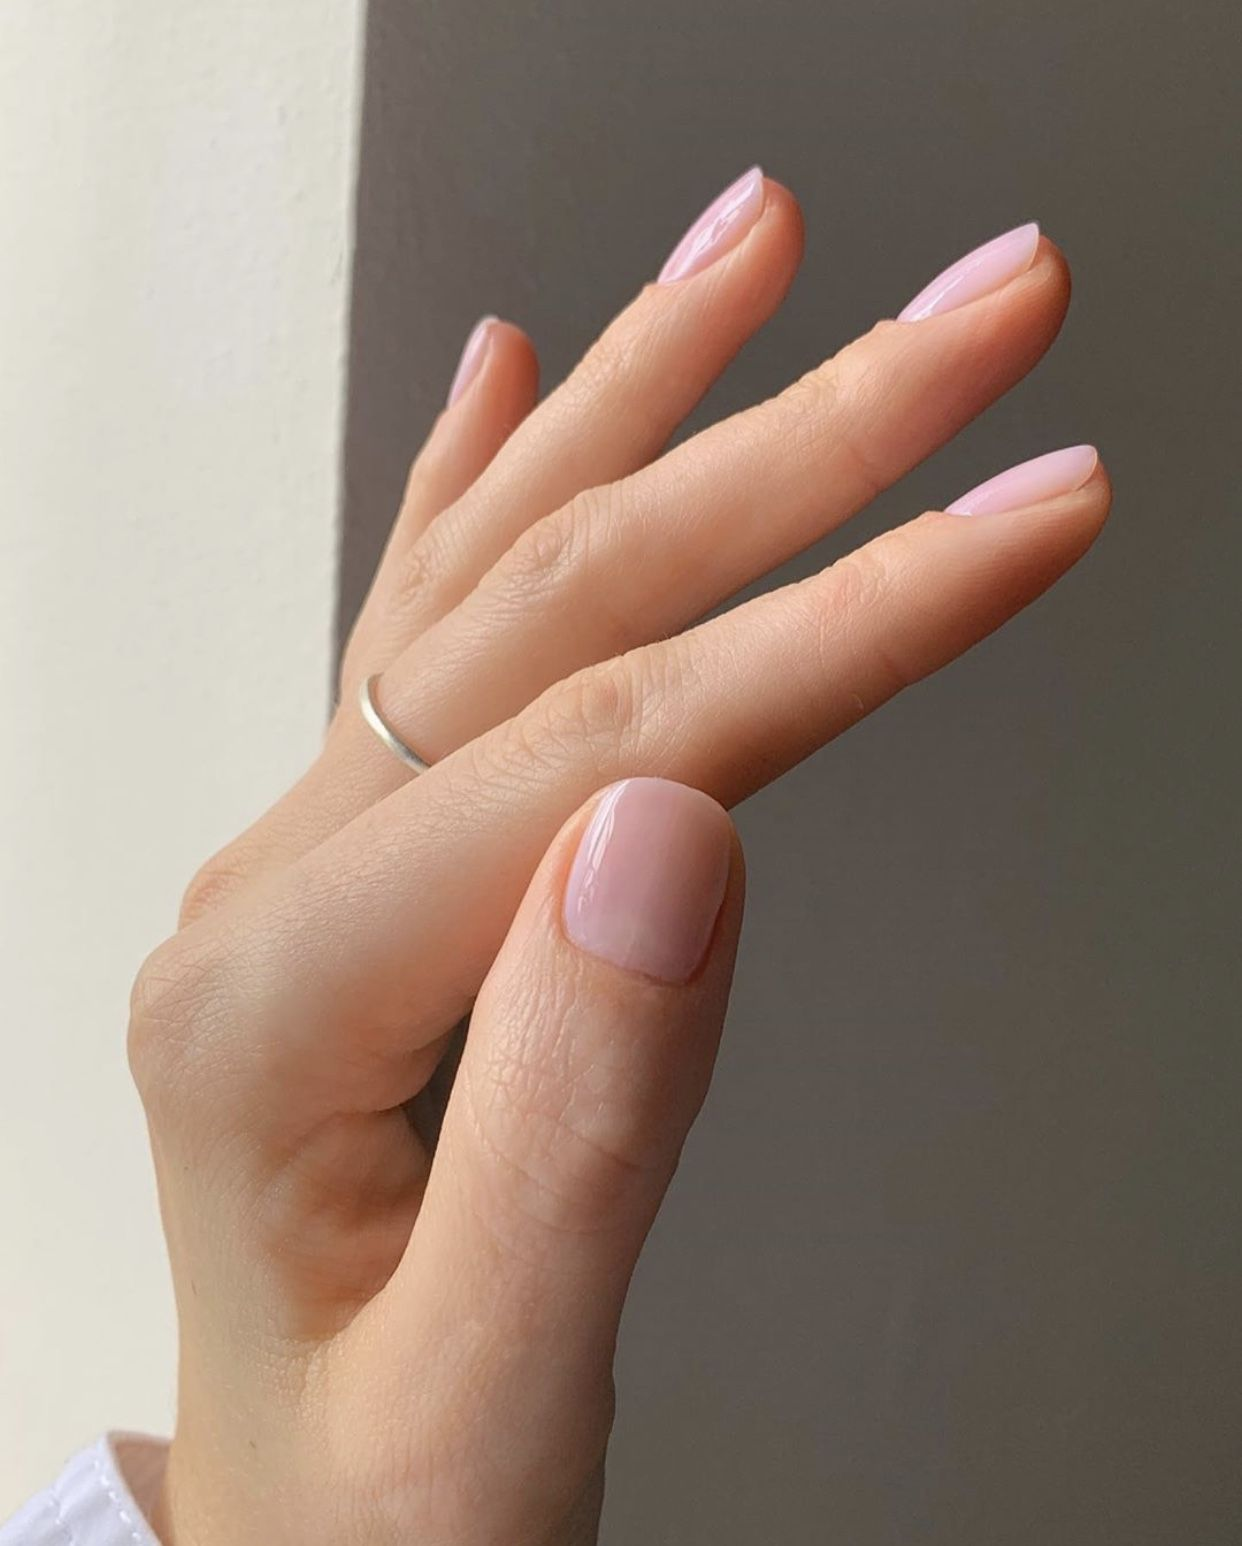nails: (553, 770, 748, 1004), (643, 144, 777, 291), (885, 212, 1049, 327), (932, 437, 1109, 537), (439, 302, 502, 422)
